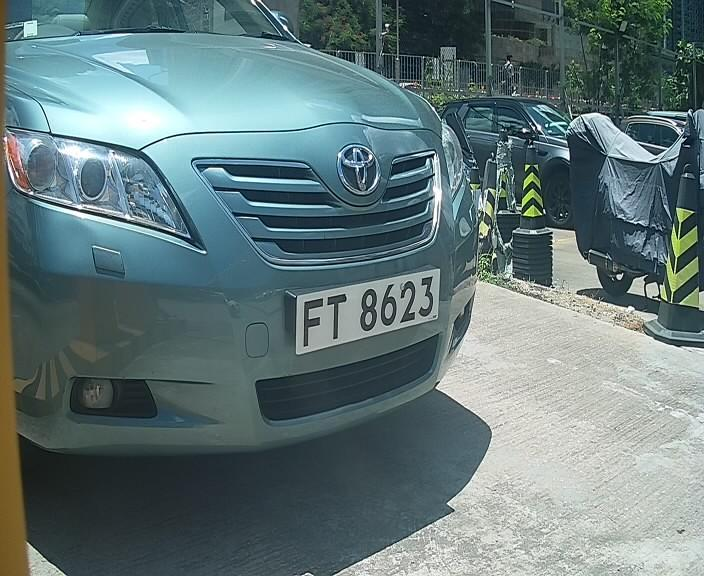License Plate: (287, 265, 437, 355)
